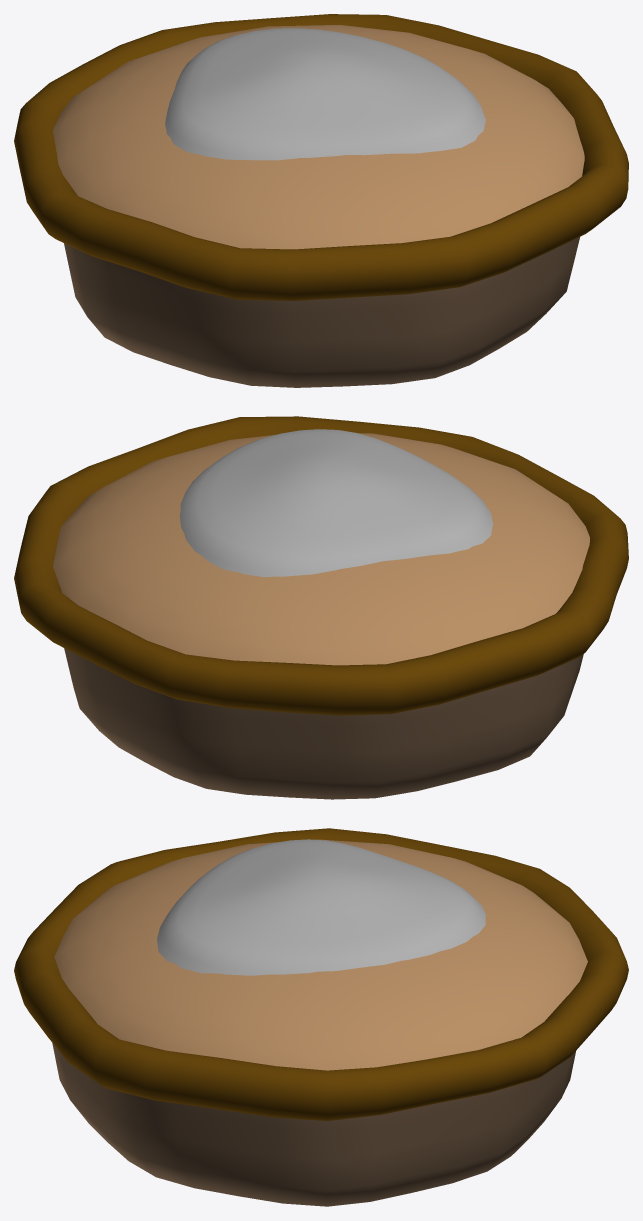
The model's file is Pie_As_one.fbx.
The picture shows the model from 3 angles, top to bottom: view 1: azimuth 30°, elevation 25°; view 2: azimuth 150°, elevation 25°; view 3: azimuth 270°, elevation 25°; orthographic projection.
Parts seen in each view (by area): view 1: Lid_Smooth, Crust_Smooth, Base_Smooth, pie_Toppings_Sauce; view 2: Lid_Smooth, Crust_Smooth, Base_Smooth, pie_Toppings_Sauce; view 3: Lid_Smooth, Crust_Smooth, Base_Smooth, pie_Toppings_Sauce.
Part boxes in pixels (left/top/right/bottom): Lid_Smooth: left=53, top=25, right=584, bottom=249; Crust_Smooth: left=14, top=14, right=628, bottom=300; Base_Smooth: left=64, top=237, right=579, bottom=387; pie_Toppings_Sauce: left=165, top=28, right=485, bottom=160; Lid_Smooth: left=53, top=433, right=589, bottom=665; Crust_Smooth: left=14, top=416, right=628, bottom=715; Base_Smooth: left=64, top=648, right=583, bottom=799; pie_Toppings_Sauce: left=180, top=429, right=493, bottom=577; Lid_Smooth: left=54, top=839, right=587, bottom=1070; Crust_Smooth: left=14, top=828, right=628, bottom=1120; Base_Smooth: left=52, top=1043, right=575, bottom=1206; pie_Toppings_Sauce: left=157, top=839, right=485, bottom=975.
Size of the model in its own units: 241 by 101 by 238.
